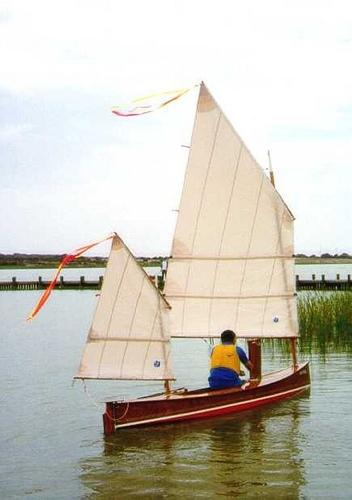Ship: (26, 85, 312, 436)
